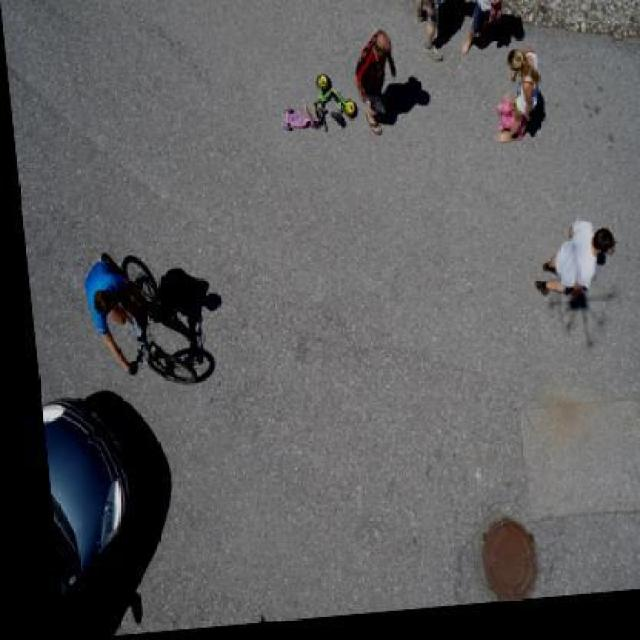Person: (517, 213, 621, 327), (72, 257, 142, 388), (475, 51, 550, 155), (339, 27, 398, 151), (408, 0, 464, 71), (460, 0, 523, 58)
